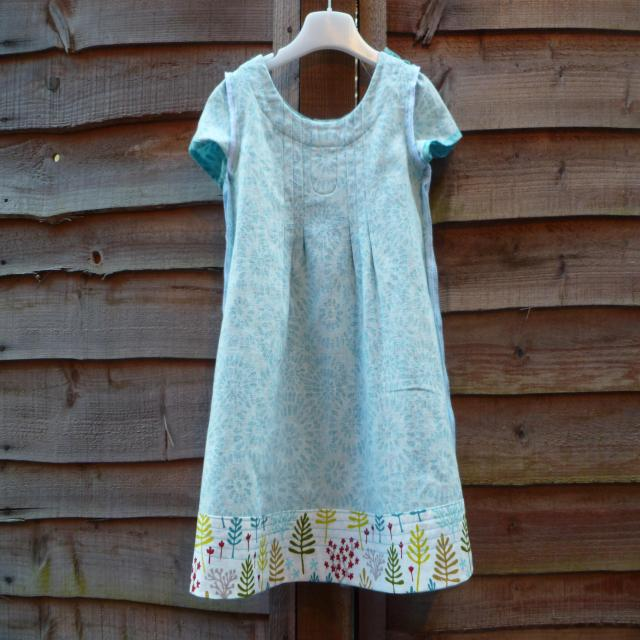Dress: (197, 38, 477, 609)
